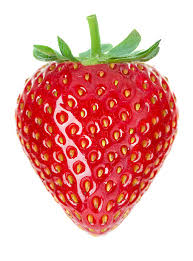strawberry: (13, 27, 179, 238)
